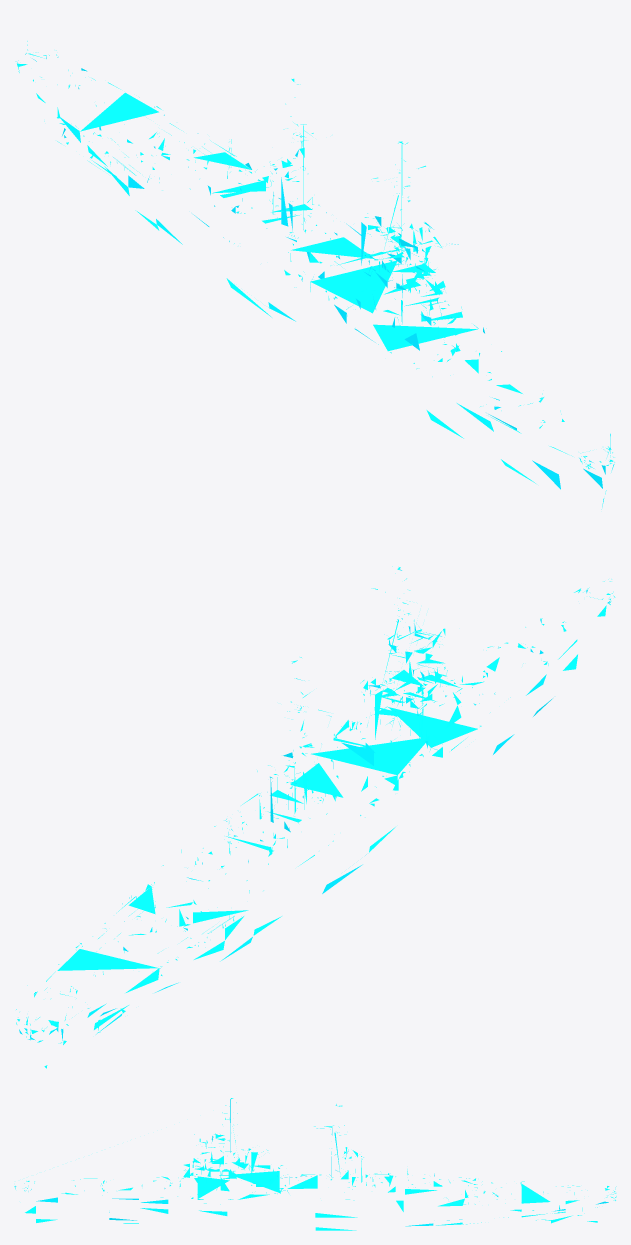
Rendered from Cyber_Dmitry_Pozharsky.glb.
3 views of the same model, one above another, from view 1: azimuth 30°, elevation 25°; view 2: azimuth 150°, elevation 25°; view 3: azimuth 270°, elevation 25° (orthographic). The views are drawn at different scales.
Size of the model in its own units: 1.48 by 3.21 by 14.01.
